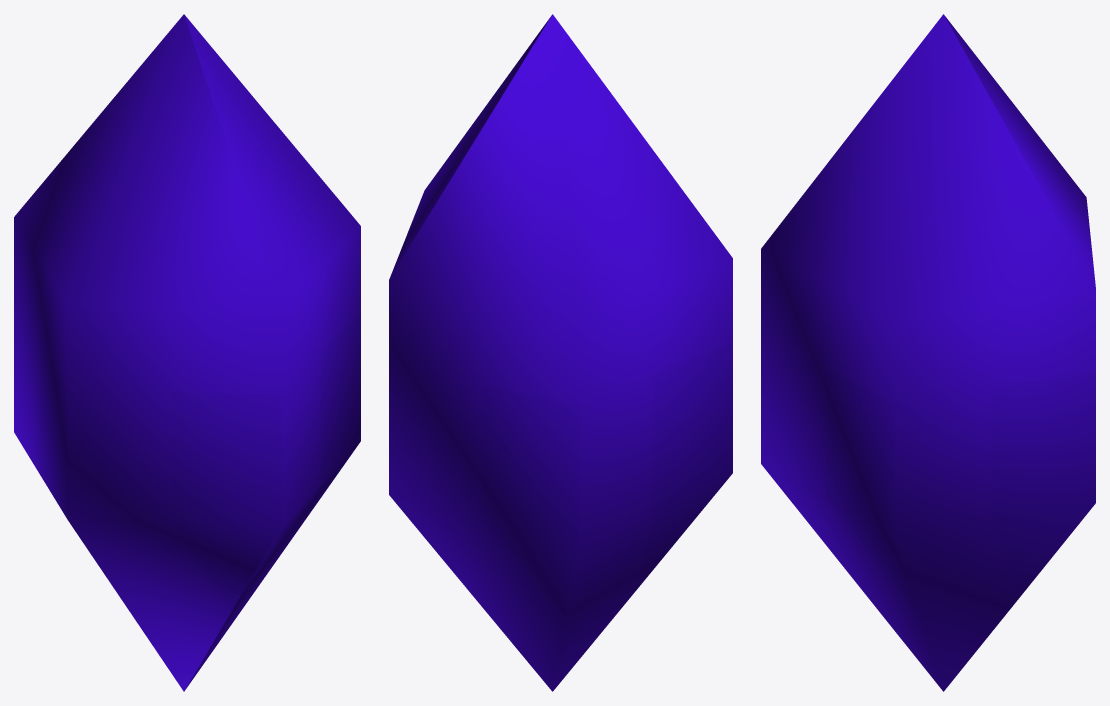
File: INST_COURAGEPOINT_1.fbx
3 views of the same model, side by side, from view 1: azimuth 30°, elevation 25°; view 2: azimuth 150°, elevation 25°; view 3: azimuth 270°, elevation 25° (orthographic).
Visible parts, largest first — view 1: INST_COURAGEPOINT_1; view 2: INST_COURAGEPOINT_1; view 3: INST_COURAGEPOINT_1.
Part boxes in pixels (<box>): INST_COURAGEPOINT_1: <box>14,14,360,691</box>; INST_COURAGEPOINT_1: <box>389,14,732,691</box>; INST_COURAGEPOINT_1: <box>761,14,1095,691</box>.
Bounding box in the file's own units: 1601 × 3449 × 1544.
